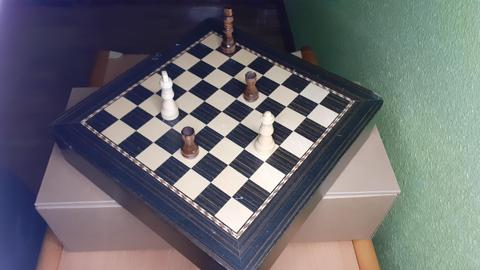xcorner: (166, 76, 173, 83), (114, 114, 121, 121), (166, 98, 173, 105), (214, 83, 221, 90), (217, 106, 224, 113), (236, 117, 243, 124), (296, 88, 303, 95), (224, 161, 231, 168), (291, 126, 298, 133), (209, 45, 216, 51), (150, 88, 156, 95), (225, 53, 232, 59), (182, 86, 189, 92), (149, 112, 156, 118), (199, 96, 206, 102), (183, 109, 190, 115), (166, 123, 173, 129), (232, 93, 238, 100), (202, 120, 208, 127), (277, 79, 284, 85), (264, 91, 271, 97), (270, 115, 277, 121), (207, 179, 213, 186), (304, 112, 311, 118), (277, 142, 284, 148), (262, 158, 269, 164), (196, 55, 202, 61), (182, 65, 188, 71), (133, 101, 139, 107), (212, 63, 218, 69), (198, 74, 204, 80), (131, 126, 137, 132), (242, 61, 248, 67), (229, 72, 235, 78), (148, 138, 154, 144), (259, 70, 265, 76), (246, 81, 252, 87), (185, 135, 191, 141), (167, 151, 173, 157), (251, 104, 257, 110), (221, 132, 227, 138), (204, 148, 210, 154), (186, 165, 192, 171), (284, 101, 290, 107), (256, 129, 262, 135), (241, 145, 247, 151), (317, 99, 323, 105), (246, 176, 252, 182), (229, 195, 235, 201)
